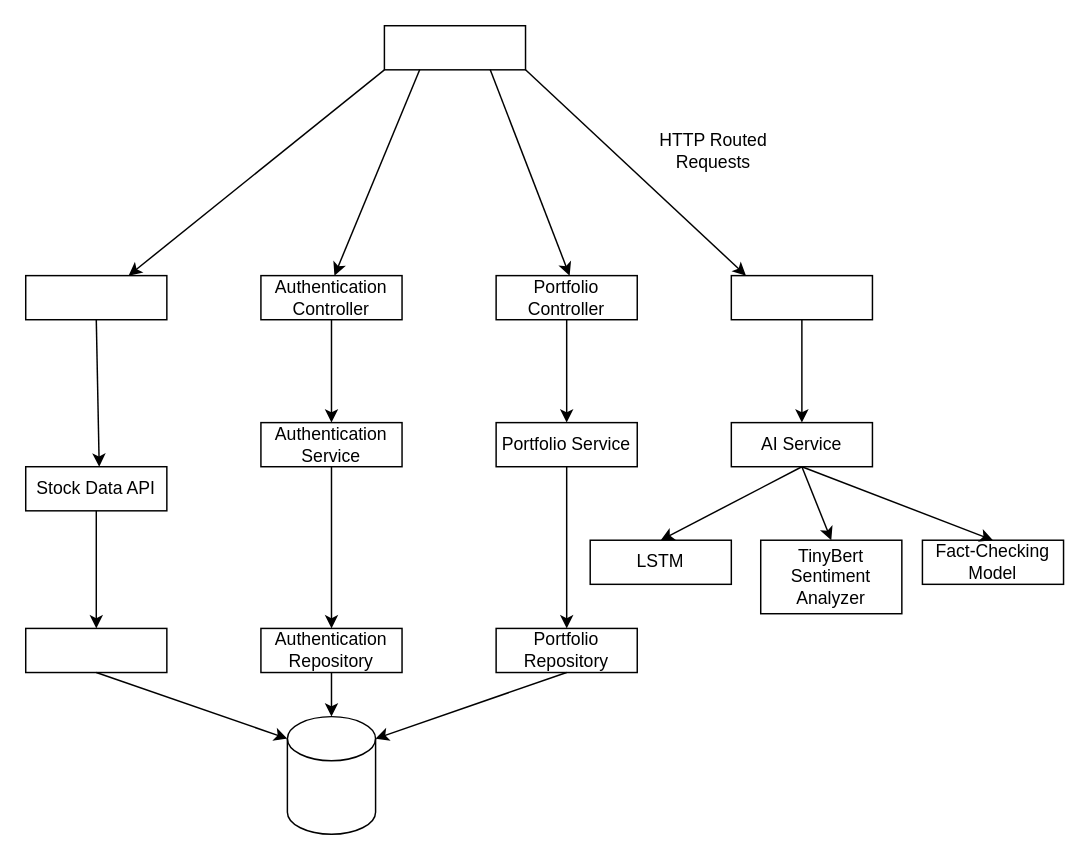
This 1089x860 diagram has some shape labels left out. The centre of each missing label's shape, as x and y in pixels:
"AI Controller" goes at [801,297].
"Flutter Client" goes at [454,47].
"MongoDb Database" goes at [331,774].
"Stocks Controller" goes at [95,297].
"Stocks Repository" goes at [95,650].
